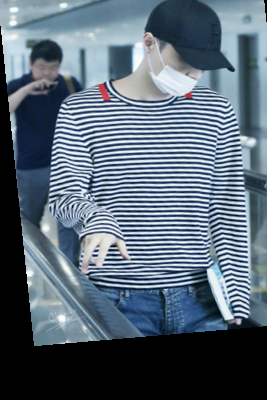mask_weared_incorrect: (132, 2, 247, 110)
